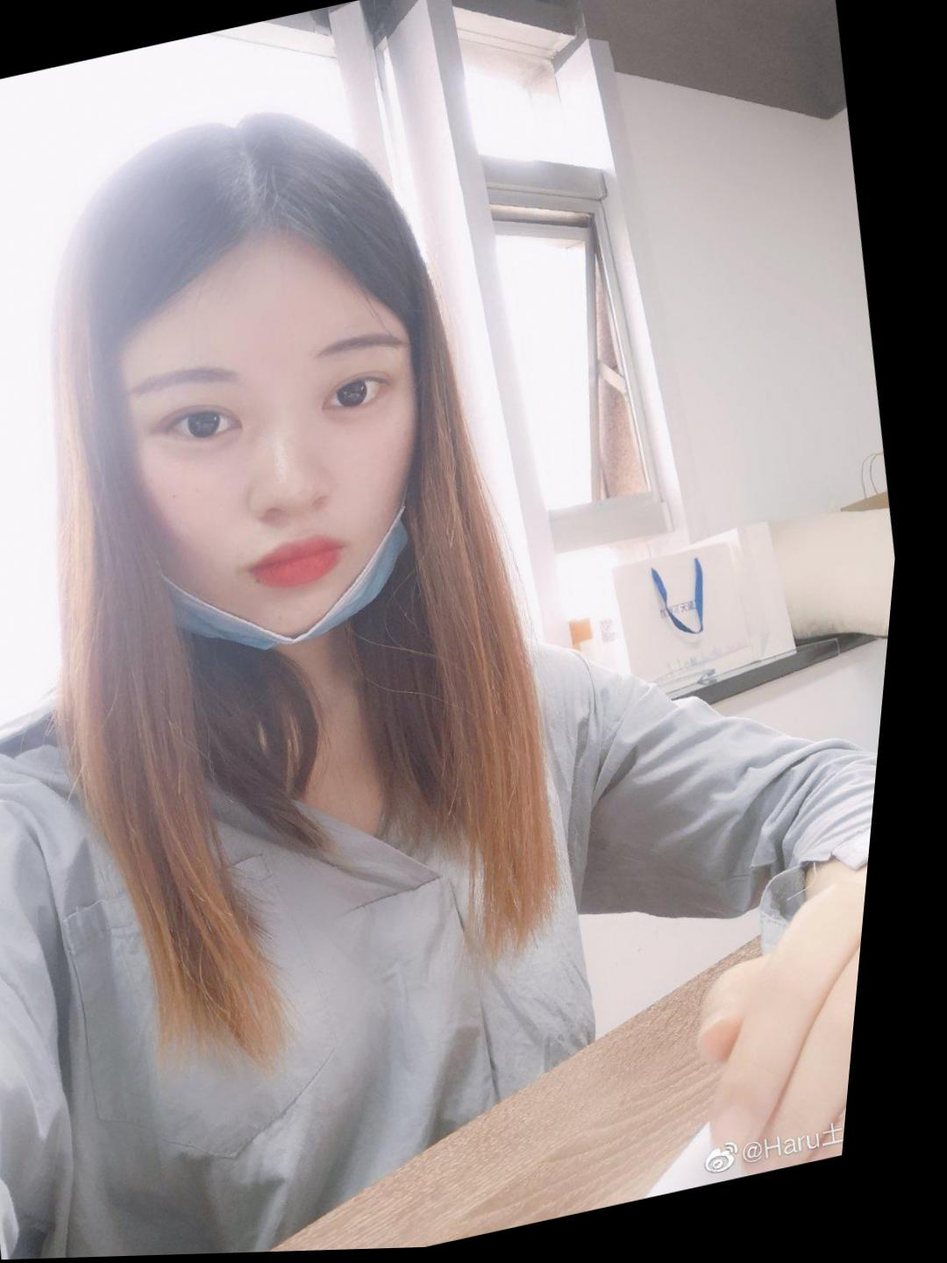WRONG: (86, 274, 476, 687)
